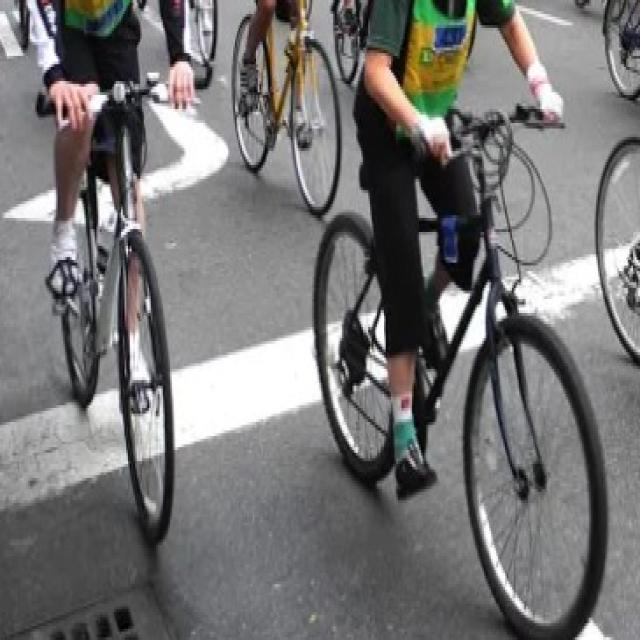bicycle: (298, 117, 616, 640), (22, 38, 210, 562), (219, 0, 353, 215), (571, 89, 640, 505), (566, 0, 630, 17)
